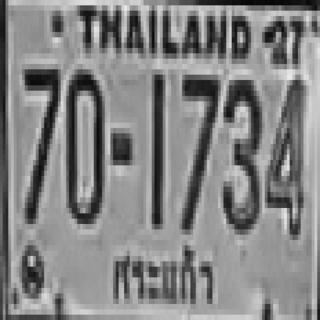N00: (64, 64, 102, 219)
N01: (150, 69, 161, 224)
N03: (221, 75, 259, 229)
N04: (264, 75, 305, 235)
N07: (181, 69, 216, 229), (22, 64, 58, 219)
P55: (106, 233, 220, 314)
